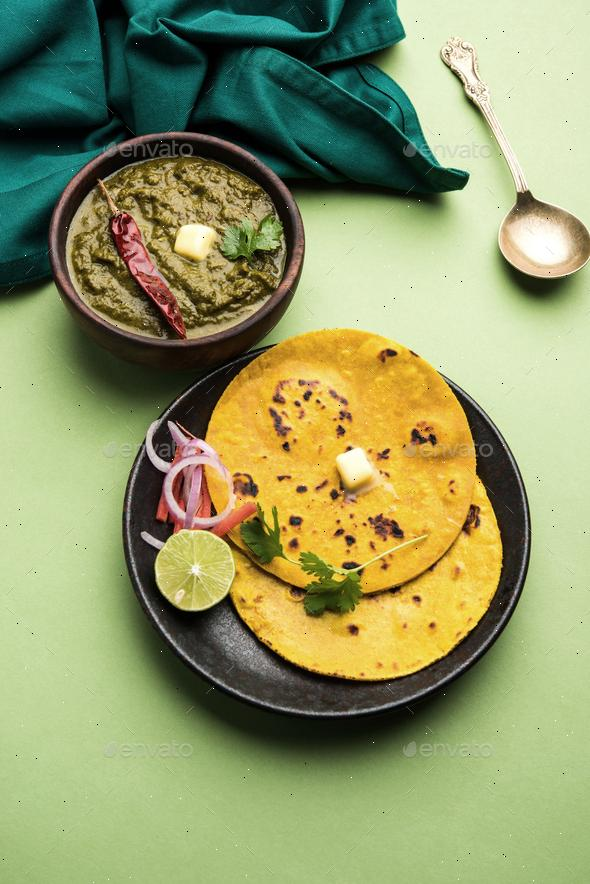saag: (68, 160, 290, 323)
